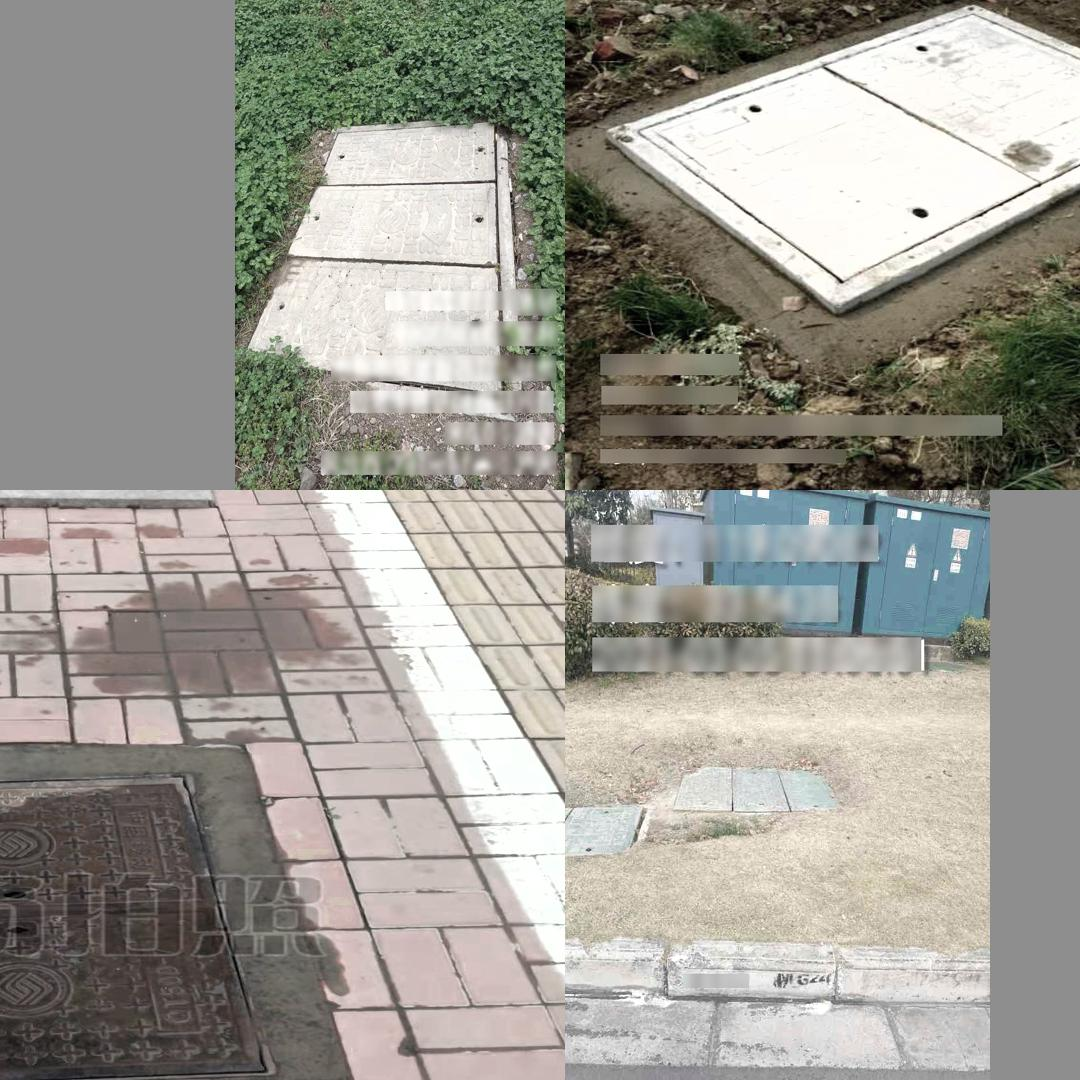good: (602, 4, 1080, 316), (0, 770, 275, 1080), (245, 113, 519, 420), (673, 761, 840, 813), (565, 804, 653, 855)
